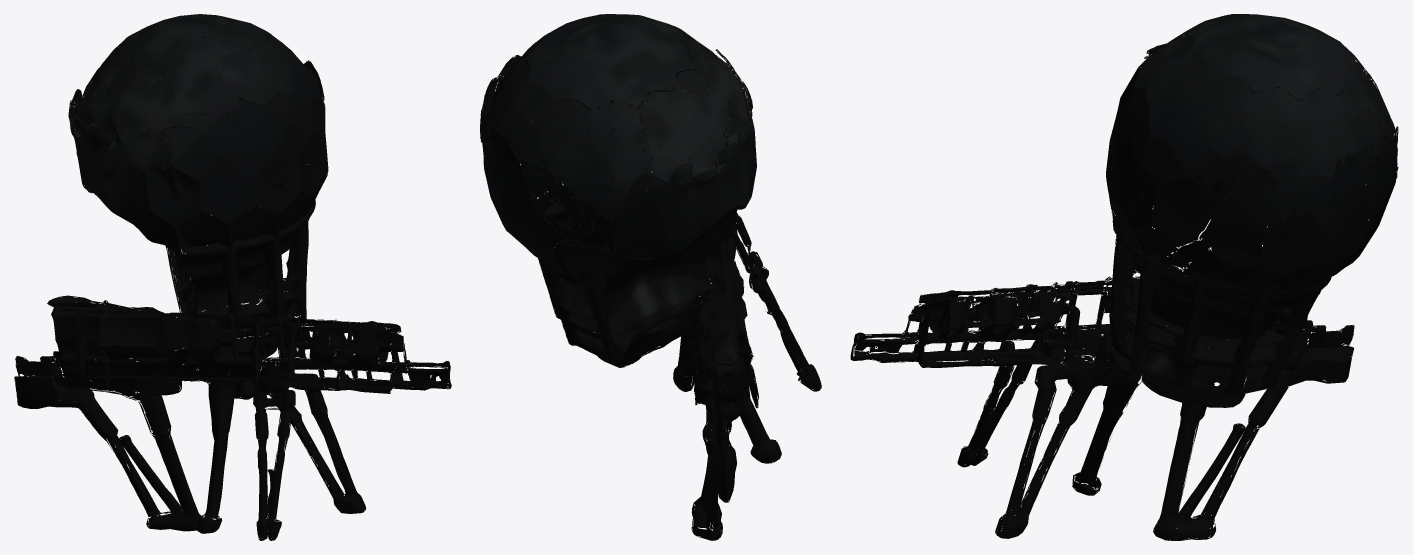
The model's file is coronet-dome-tower.hq.glb.
3 renders of one model, left to right at view 1: azimuth 30°, elevation 25°; view 2: azimuth 150°, elevation 25°; view 3: azimuth 270°, elevation 25°, orthographic. The views are drawn at different scales.
Visible parts, largest first — view 1: low; view 2: low; view 3: low.
Part boxes in pixels (bbox=[...]): low: bbox=[14, 14, 451, 540]; low: bbox=[480, 14, 821, 540]; low: bbox=[850, 14, 1398, 540].
Bounding box in the file's own units: 0.5169 × 0.9108 × 0.8352.
1 material, 1 textured.
